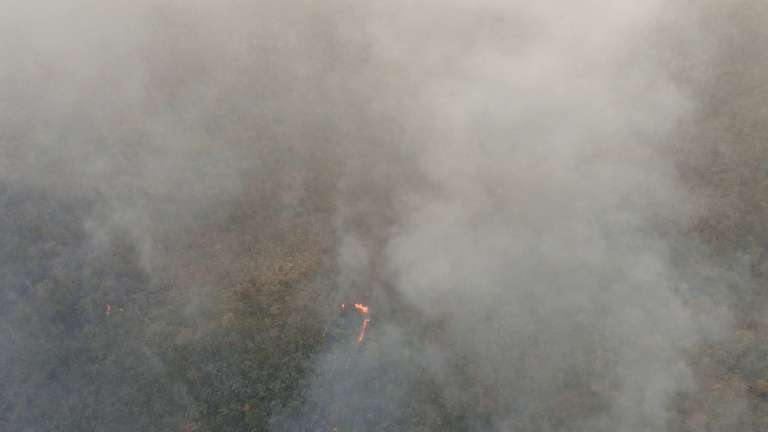fire: (322, 294, 372, 369), (102, 301, 130, 319)
smoke: (1, 4, 718, 432)
